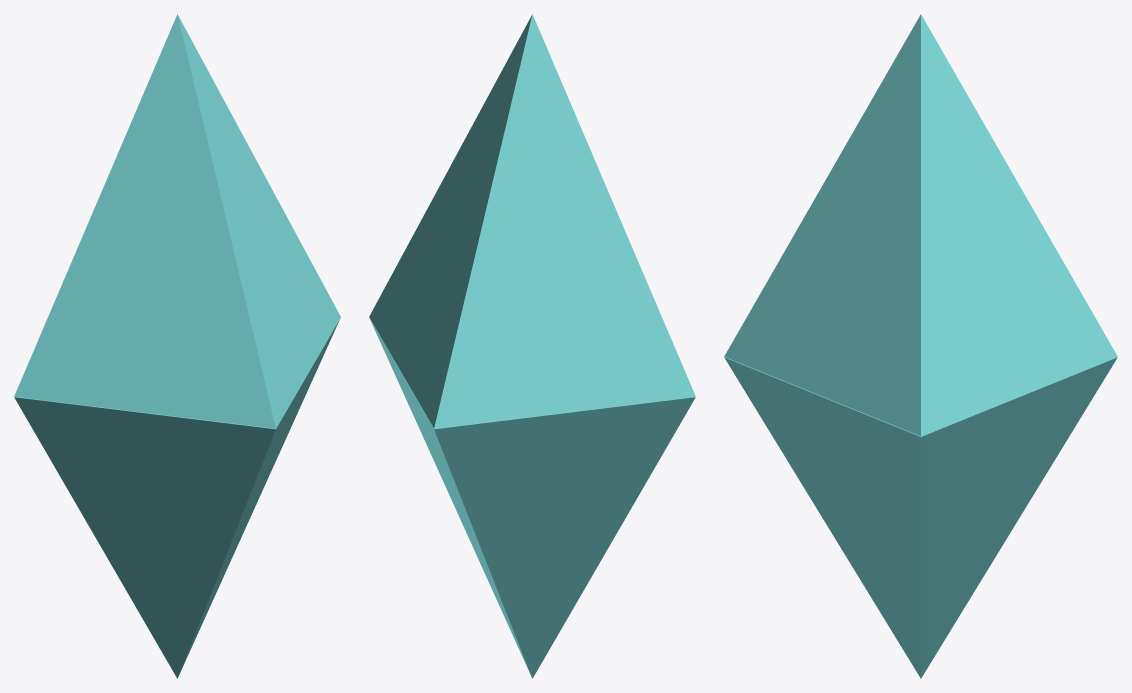
Rendered from diamante 1.fbx.
The picture shows the model from 3 angles, left to right: view 1: azimuth 30°, elevation 25°; view 2: azimuth 150°, elevation 25°; view 3: azimuth 270°, elevation 25°; orthographic projection.
Parts seen in each view (by area): view 1: pasted__pPyramid3; view 2: pasted__pPyramid3; view 3: pasted__pPyramid3.
Boxes of the visible parts, x1=… form: pasted__pPyramid3: x1=14, y1=14, x2=340, y2=678; pasted__pPyramid3: x1=369, y1=14, x2=695, y2=678; pasted__pPyramid3: x1=724, y1=14, x2=1117, y2=678.
Bounding box in the file's own units: 3.69 × 7.18 × 3.86.
